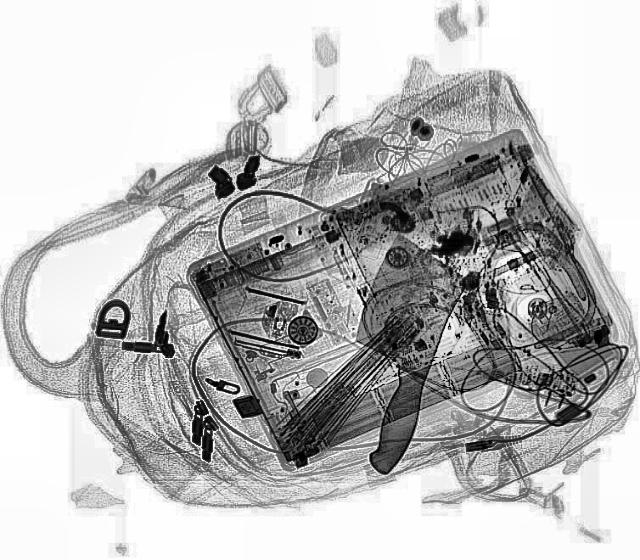Knife: (306, 230, 480, 478)
